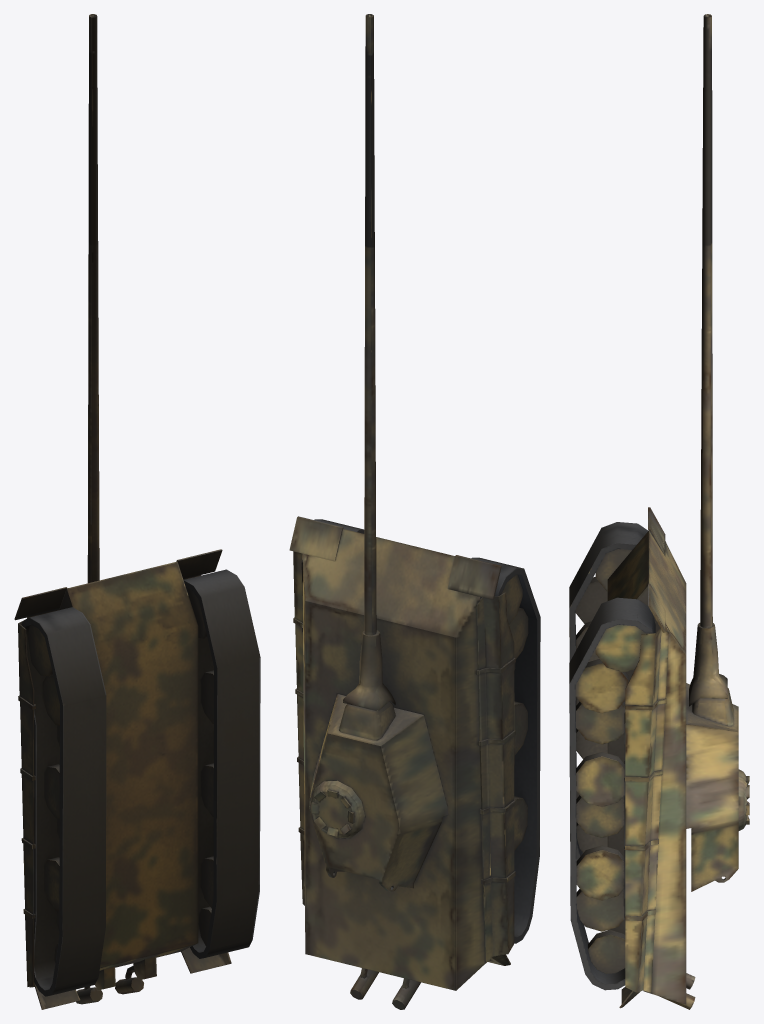
3 renders of one model, left to right at view 1: azimuth 30°, elevation 25°; view 2: azimuth 150°, elevation 25°; view 3: azimuth 270°, elevation 25°, orthographic.
Parts seen in each view (by area): view 1: E-50II Body, E-50II Turret; view 2: E-50II Body, E-50II Turret; view 3: E-50II Body, E-50II Turret.
Part boxes in pixels (x1,y1,x2,y2): E-50II Body: (14, 549, 260, 1009); E-50II Turret: (87, 14, 99, 583); E-50II Body: (289, 516, 540, 1009); E-50II Turret: (309, 14, 448, 891); E-50II Body: (569, 507, 695, 1009); E-50II Turret: (686, 14, 749, 891).
Size of the model in its own units: 144 by 657 by 109.
